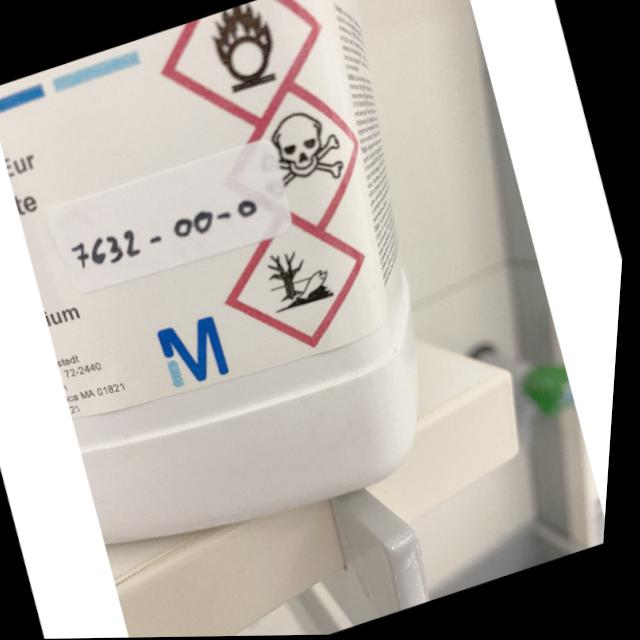acute toxicity: (249, 101, 354, 201)
hazardous to the environment: (262, 239, 343, 316)
oxidising: (203, 0, 289, 98)
